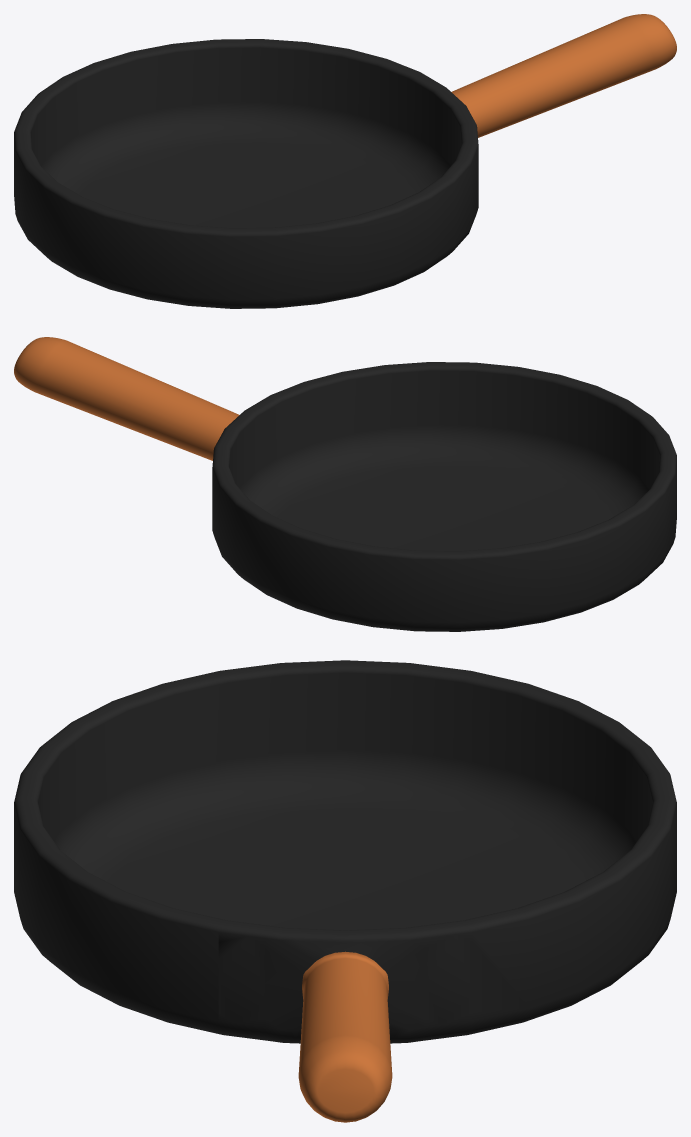
The model's file is guo1.FBX.
3 renders of one model, top to bottom at view 1: azimuth 30°, elevation 25°; view 2: azimuth 150°, elevation 25°; view 3: azimuth 270°, elevation 25°, orthographic. The views are drawn at different scales.
Visible parts, largest first — view 1: G, g1; view 2: G, g1; view 3: G, g1.
Part boxes in pixels (x1=…): G: x1=14, y1=39, x2=478, y2=308; g1: x1=451, y1=14, x2=676, y2=137; G: x1=212, y1=362, x2=676, y2=631; g1: x1=14, y1=337, x2=239, y2=460; G: x1=14, y1=660, x2=676, y2=1043; g1: x1=298, y1=951, x2=392, y2=1122.
Size of the model in its own units: 310 by 50.09 by 200.
